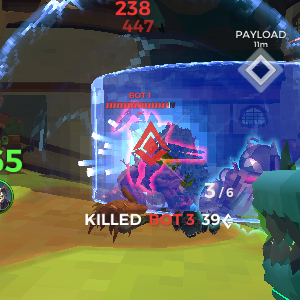model: (111, 107, 175, 194)
